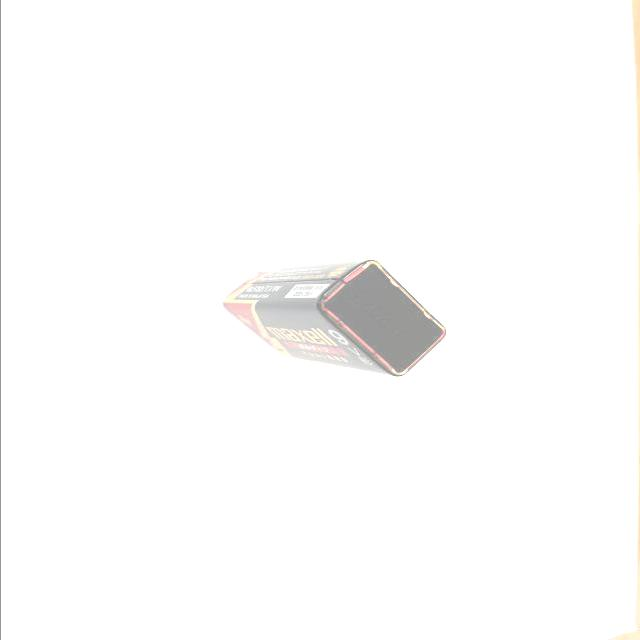9V: (223, 259, 446, 379)
